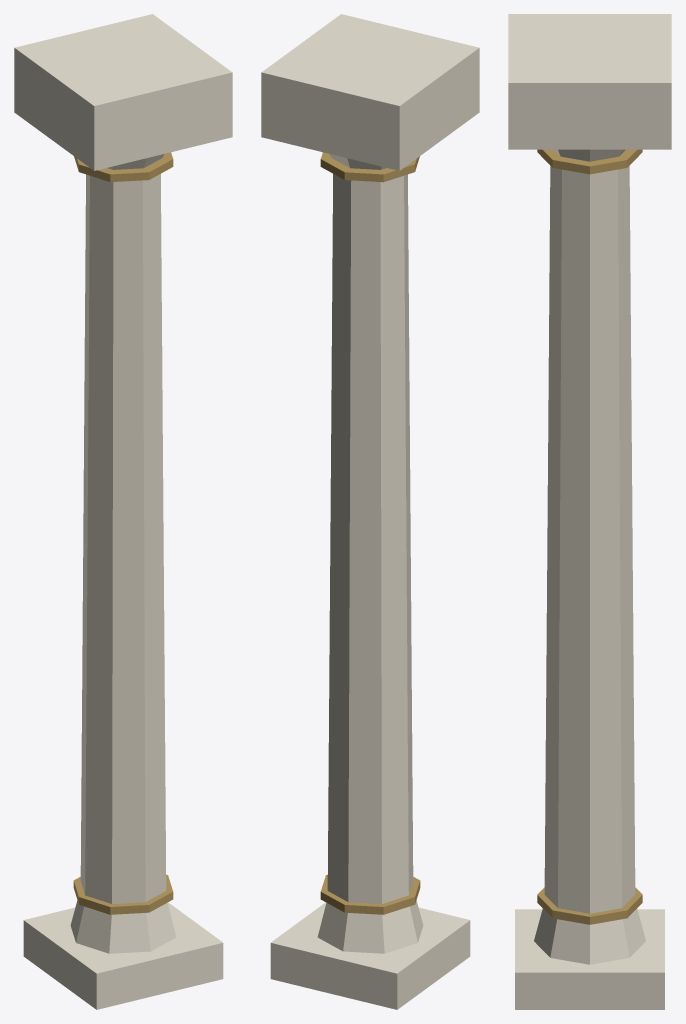
The model's file is VIC_A01_COLUMN_Roblox.fbx.
The picture shows the model from 3 angles, left to right: view 1: azimuth 30°, elevation 25°; view 2: azimuth 150°, elevation 25°; view 3: azimuth 270°, elevation 25°; orthographic projection. The views are drawn at different scales.
Parts seen in each view (by area): view 1: VIC_A01_COLUMN__Ivory, VIC_A01_COLUMN__Brass; view 2: VIC_A01_COLUMN__Ivory, VIC_A01_COLUMN__Brass; view 3: VIC_A01_COLUMN__Ivory, VIC_A01_COLUMN__Brass.
Part boxes in pixels (left/top/right/bottom): VIC_A01_COLUMN__Ivory: left=14, top=14, right=232, bottom=1009; VIC_A01_COLUMN__Brass: left=73, top=152, right=173, bottom=914; VIC_A01_COLUMN__Ivory: left=261, top=14, right=479, bottom=1009; VIC_A01_COLUMN__Brass: left=320, top=152, right=420, bottom=914; VIC_A01_COLUMN__Ivory: left=508, top=14, right=671, bottom=1009; VIC_A01_COLUMN__Brass: left=537, top=149, right=642, bottom=924.
Bounding box in the file's own units: 2.23 × 14 × 2.23.
